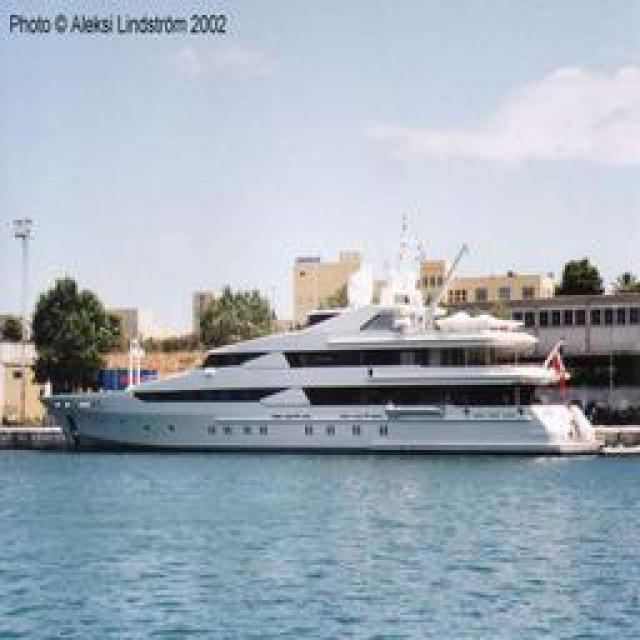Ship: (32, 297, 622, 460)
